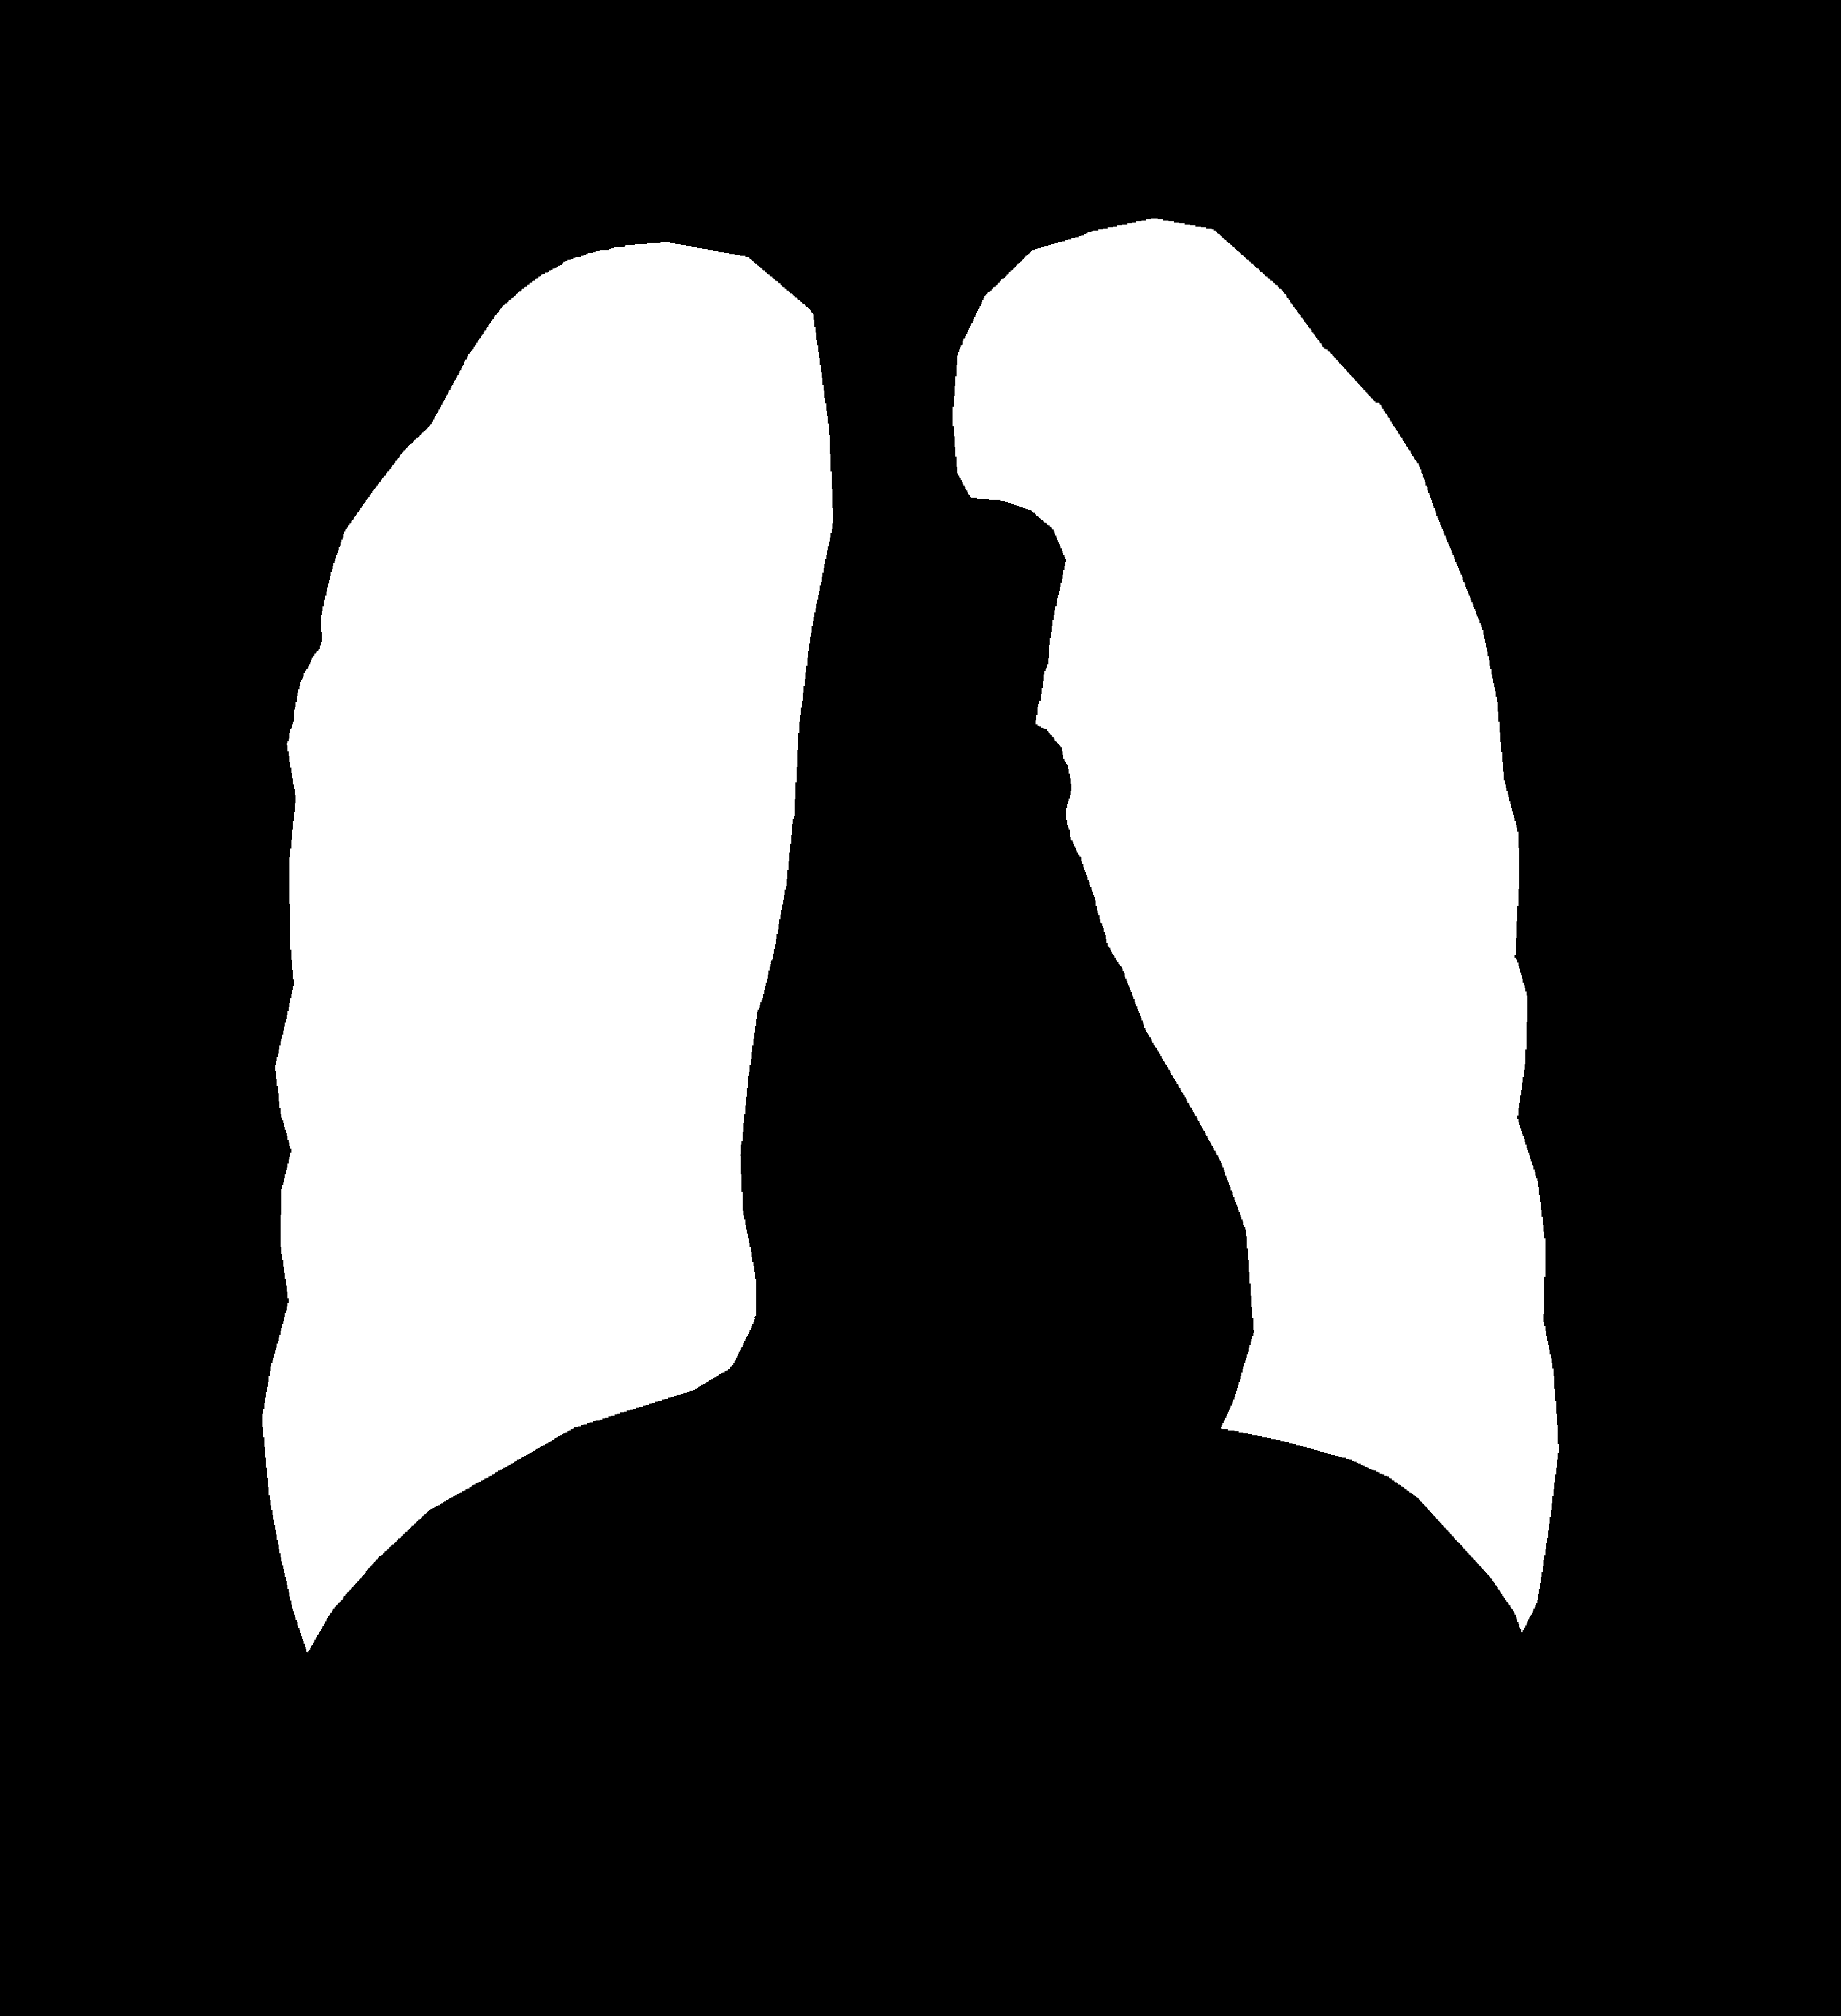heart: (740, 948, 1251, 1480)
left_lung: (262, 242, 833, 1652)
right_lung: (952, 218, 1558, 1631)
